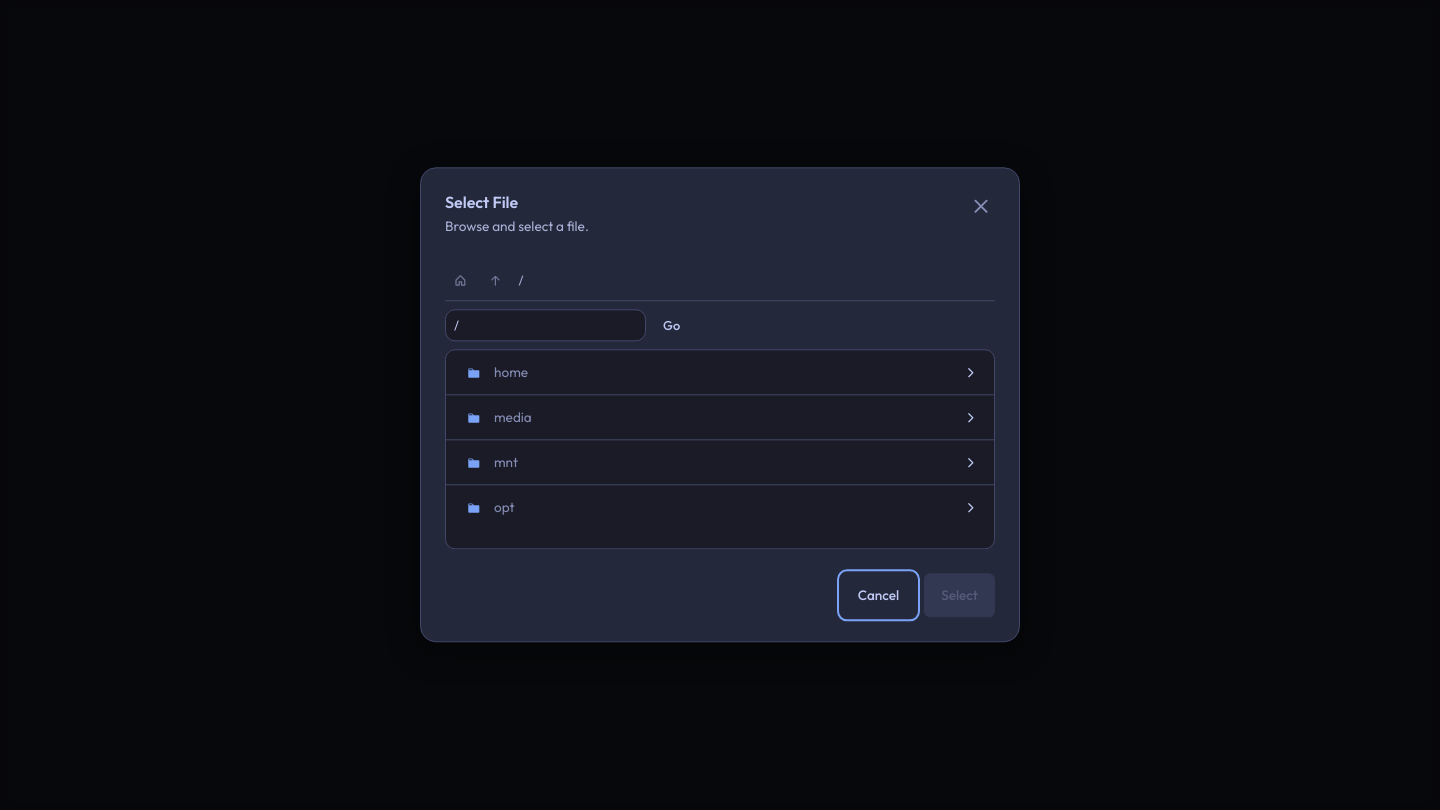
Test: FileBrowser › navigates to folder on click
Check: the text "home" is shown, box [494,364,528,382]
Click the button named "open home": point(971, 373) [955,357,986,389]
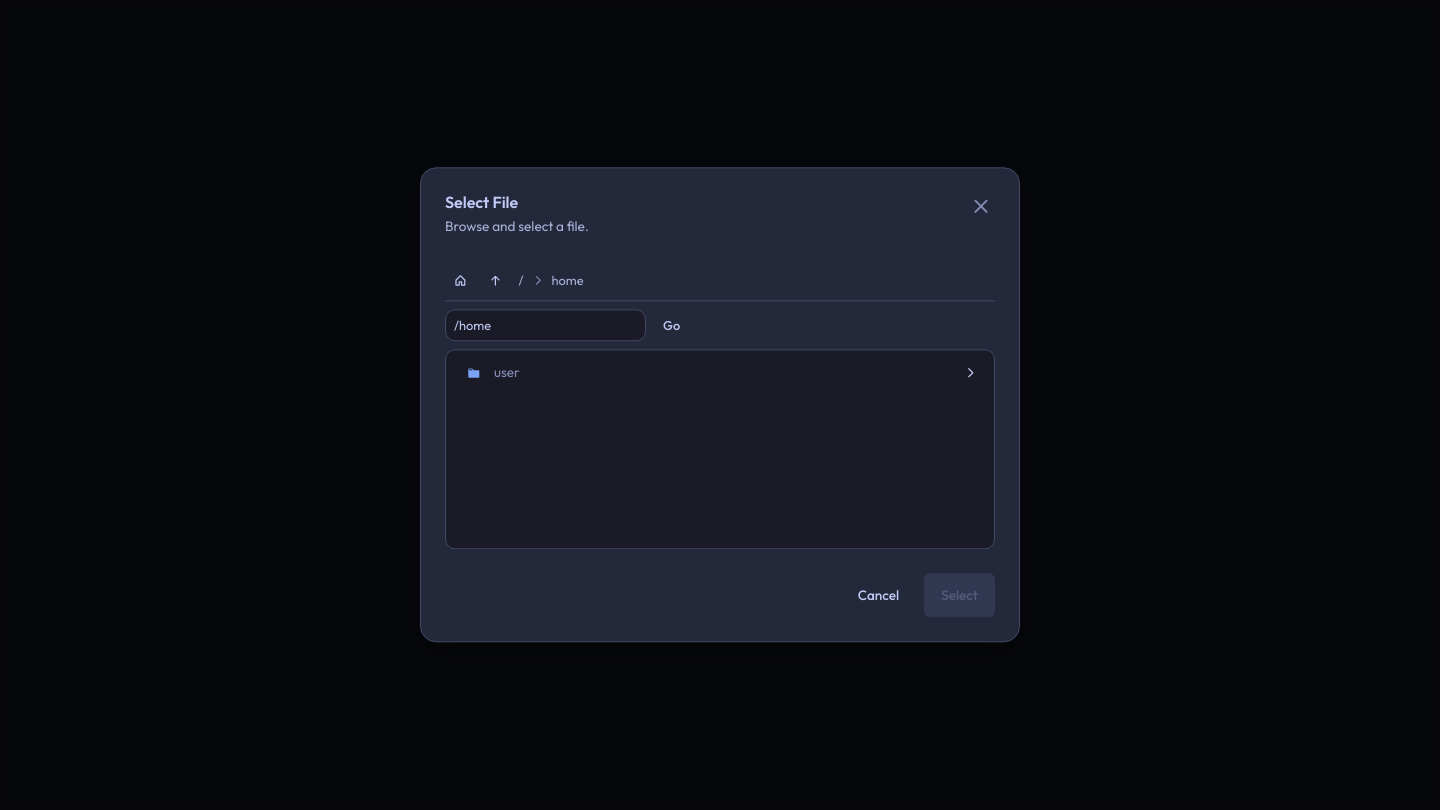
Check: the text "user" is shown, box [494,364,520,382]
